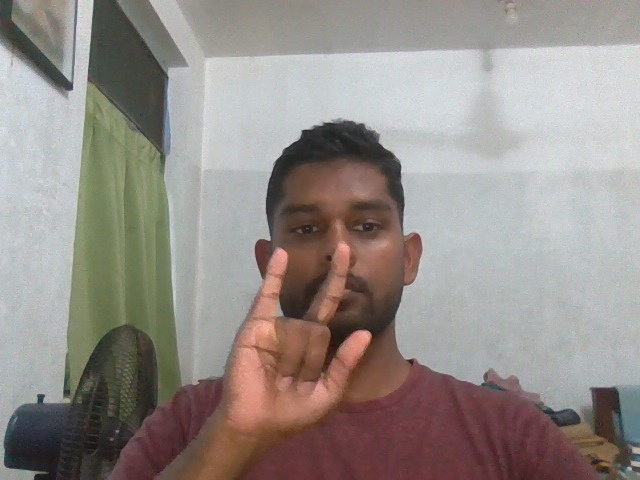hello: (184, 236, 379, 432)
